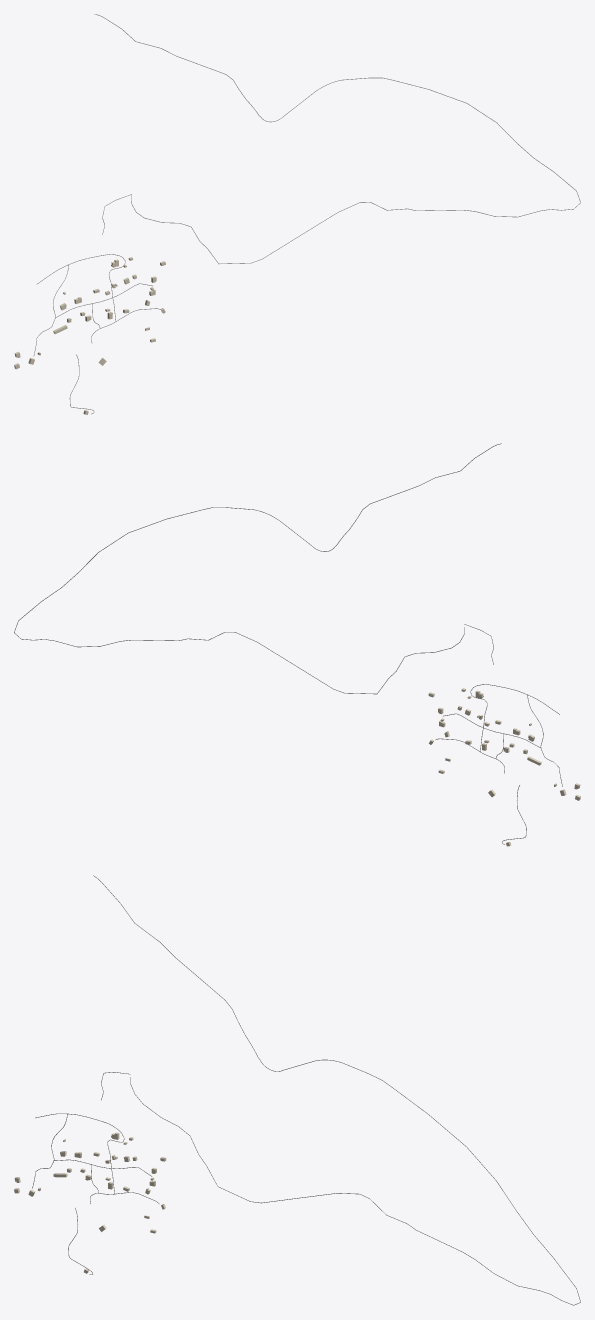
The model's file is historic-palestine-11_27_3534_3216.glb.
The picture shows the model from 3 angles, top to bottom: view 1: azimuth 30°, elevation 25°; view 2: azimuth 150°, elevation 25°; view 3: azimuth 330°, elevation 25°; orthographic projection.
Parts seen in each view (by area): view 1: Road .007, Road; view 2: Road .007, Road; view 3: Road .007, Road.
Part boxes in pixels (left/top/right/bottom): Road .007: left=94, top=14, right=580, bottom=202; Road: left=102, top=194, right=580, bottom=264; Road .007: left=14, top=443, right=501, bottom=632; Road: left=14, top=624, right=493, bottom=694; Road .007: left=93, top=875, right=580, bottom=1302; Road: left=101, top=1072, right=580, bottom=1305.
Bounding box in the file's own units: 1617 × 1091 × 8.7.
